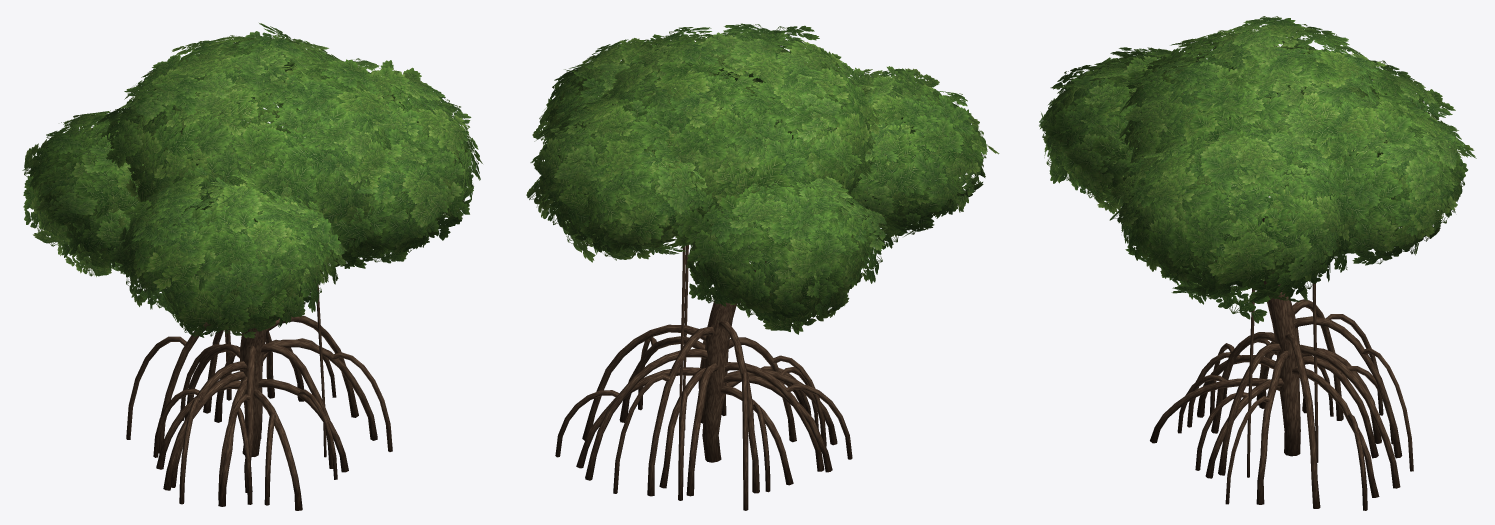
The model's file is mangrove_c.glb.
3 views of the same model, side by side, from view 1: azimuth 30°, elevation 25°; view 2: azimuth 150°, elevation 25°; view 3: azimuth 270°, elevation 25° (orthographic).
Parts seen in each view (by area): view 1: leaves, wood; view 2: leaves, wood; view 3: leaves, wood.
Boxes of the visible parts, x1,y1,x2,y2 form: leaves: [22, 23, 482, 338]; wood: [126, 166, 392, 510]; leaves: [526, 23, 999, 334]; wood: [555, 155, 885, 510]; leaves: [1039, 16, 1476, 323]; wood: [1150, 218, 1413, 510].
Size of the model in its own units: 10.02 by 10.37 by 10.02.
Materials: 2 (2 with a texture image).
